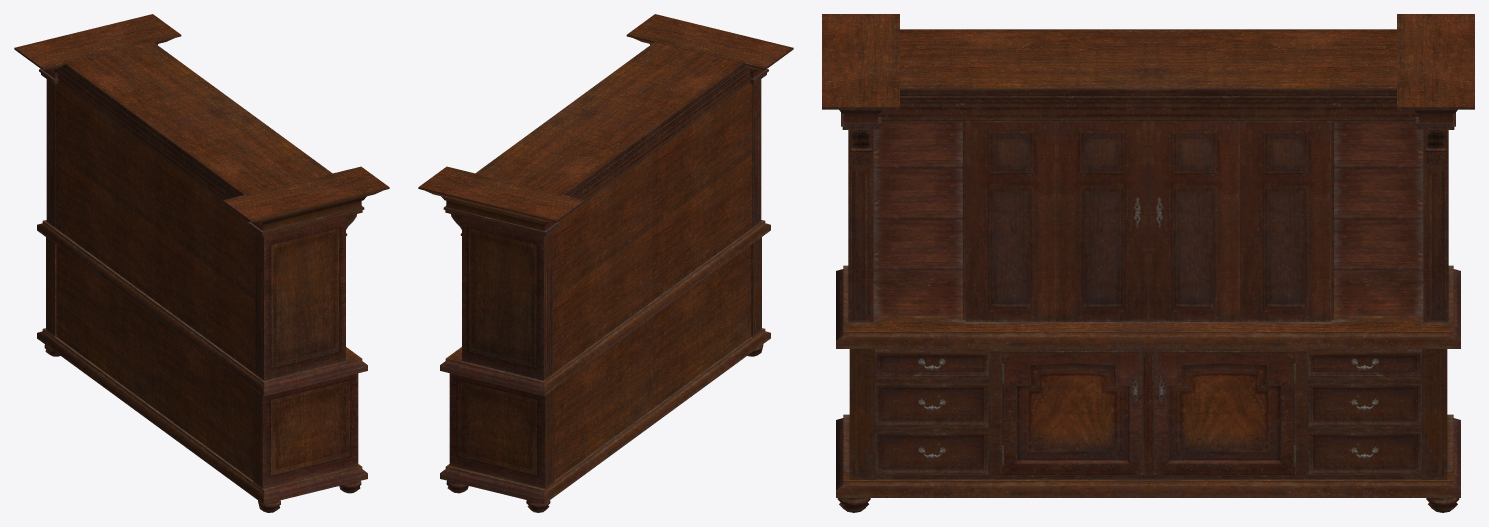
The model's file is 042_HeadShelf.fbx.
3 renders of one model, left to right at view 1: azimuth 30°, elevation 25°; view 2: azimuth 150°, elevation 25°; view 3: azimuth 270°, elevation 25°, orthographic. The views are drawn at different scales.
Parts seen in each view (by area): view 1: LOD_1_Group_5_Sub_1__sm30_042_HeadShelf01A_A_Mat, LOD_1_Group_3_Sub_1__sm30_042_HeadShelf01A_A_Mat, LOD_1_Group_1_Sub_1__sm30_042_HeadShelf01A_A_Mat, LOD_1_Group_10_Sub_1__sm30_042_HeadShelf01A_A_Mat, LOD_1_Group_0_Sub_1__sm30_042_HeadShelf01A_A_Mat, LOD_1_Group_2_Sub_1__sm30_042_HeadShelf01A_A_Mat, LOD_1_Group_20_Sub_1__sm30_042_HeadShelf01A_A_Mat; view 2: LOD_1_Group_5_Sub_1__sm30_042_HeadShelf01A_A_Mat, LOD_1_Group_2_Sub_1__sm30_042_HeadShelf01A_A_Mat, LOD_1_Group_0_Sub_1__sm30_042_HeadShelf01A_A_Mat, LOD_1_Group_10_Sub_1__sm30_042_HeadShelf01A_A_Mat, LOD_1_Group_1_Sub_1__sm30_042_HeadShelf01A_A_Mat, LOD_1_Group_3_Sub_1__sm30_042_HeadShelf01A_A_Mat, LOD_1_Group_20_Sub_1__sm30_042_HeadShelf01A_A_Mat; view 3: LOD_1_Group_5_Sub_1__sm30_042_HeadShelf01A_A_Mat, LOD_1_Group_4_Sub_1__sm30_042_HeadShelf01A_A_Mat, LOD_1_Group_10_Sub_1__sm30_042_HeadShelf01A_A_Mat, LOD_1_Group_6_Sub_1__sm30_042_HeadShelf01A_A_Mat, LOD_1_Group_7_Sub_1__sm30_042_HeadShelf01A_A_Mat, LOD_1_Group_8_Sub_1__sm30_042_HeadShelf01A_A_Mat, LOD_1_Group_9_Sub_1__sm30_042_HeadShelf01A_A_Mat, LOD_1_Group_11_Sub_1__sm30_042_HeadShelf01A_A_Mat, LOD_1_Group_12_Sub_1__sm30_042_HeadShelf01A_A_Mat, LOD_1_Group_0_Sub_1__sm30_042_HeadShelf01A_A_Mat, LOD_1_Group_1_Sub_1__sm30_042_HeadShelf01A_A_Mat, LOD_1_Group_2_Sub_1__sm30_042_HeadShelf01A_A_Mat (+8 smaller).
Part boxes in pixels (left/top/right/bottom): LOD_1_Group_5_Sub_1__sm30_042_HeadShelf01A_A_Mat: left=37, top=42, right=367, bottom=504; LOD_1_Group_3_Sub_1__sm30_042_HeadShelf01A_A_Mat: left=255, top=214, right=356, bottom=380; LOD_1_Group_1_Sub_1__sm30_042_HeadShelf01A_A_Mat: left=222, top=166, right=389, bottom=236; LOD_1_Group_10_Sub_1__sm30_042_HeadShelf01A_A_Mat: left=37, top=220, right=367, bottom=396; LOD_1_Group_0_Sub_1__sm30_042_HeadShelf01A_A_Mat: left=14, top=14, right=181, bottom=84; LOD_1_Group_2_Sub_1__sm30_042_HeadShelf01A_A_Mat: left=46, top=79, right=55, bottom=228; LOD_1_Group_20_Sub_1__sm30_042_HeadShelf01A_A_Mat: left=44, top=344, right=361, bottom=512; LOD_1_Group_5_Sub_1__sm30_042_HeadShelf01A_A_Mat: left=440, top=42, right=770, bottom=504; LOD_1_Group_2_Sub_1__sm30_042_HeadShelf01A_A_Mat: left=451, top=214, right=552, bottom=380; LOD_1_Group_0_Sub_1__sm30_042_HeadShelf01A_A_Mat: left=418, top=166, right=585, bottom=236; LOD_1_Group_10_Sub_1__sm30_042_HeadShelf01A_A_Mat: left=440, top=220, right=770, bottom=396; LOD_1_Group_1_Sub_1__sm30_042_HeadShelf01A_A_Mat: left=626, top=14, right=793, bottom=84; LOD_1_Group_3_Sub_1__sm30_042_HeadShelf01A_A_Mat: left=752, top=79, right=761, bottom=227; LOD_1_Group_20_Sub_1__sm30_042_HeadShelf01A_A_Mat: left=446, top=344, right=763, bottom=512; LOD_1_Group_5_Sub_1__sm30_042_HeadShelf01A_A_Mat: left=836, top=29, right=1460, bottom=497; LOD_1_Group_4_Sub_1__sm30_042_HeadShelf01A_A_Mat: left=873, top=122, right=1423, bottom=319; LOD_1_Group_10_Sub_1__sm30_042_HeadShelf01A_A_Mat: left=836, top=265, right=1460, bottom=348; LOD_1_Group_6_Sub_1__sm30_042_HeadShelf01A_A_Mat: left=1240, top=122, right=1331, bottom=321; LOD_1_Group_7_Sub_1__sm30_042_HeadShelf01A_A_Mat: left=1149, top=122, right=1240, bottom=321; LOD_1_Group_8_Sub_1__sm30_042_HeadShelf01A_A_Mat: left=1056, top=122, right=1147, bottom=321; LOD_1_Group_9_Sub_1__sm30_042_HeadShelf01A_A_Mat: left=965, top=122, right=1056, bottom=321; LOD_1_Group_11_Sub_1__sm30_042_HeadShelf01A_A_Mat: left=1154, top=352, right=1294, bottom=474; LOD_1_Group_12_Sub_1__sm30_042_HeadShelf01A_A_Mat: left=1002, top=352, right=1142, bottom=474; LOD_1_Group_0_Sub_1__sm30_042_HeadShelf01A_A_Mat: left=1397, top=14, right=1474, bottom=129; LOD_1_Group_1_Sub_1__sm30_042_HeadShelf01A_A_Mat: left=822, top=14, right=899, bottom=129; LOD_1_Group_2_Sub_1__sm30_042_HeadShelf01A_A_Mat: left=1423, top=130, right=1448, bottom=322.
Size of the model in its own units: 1.23 by 2.58 by 3.63.
